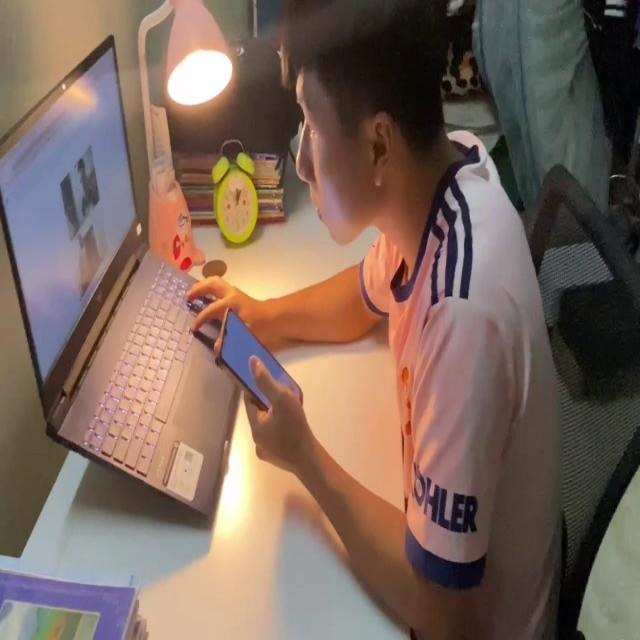laptop: (0, 31, 243, 534)
phone: (211, 300, 306, 417)
student: (185, 0, 562, 640)
